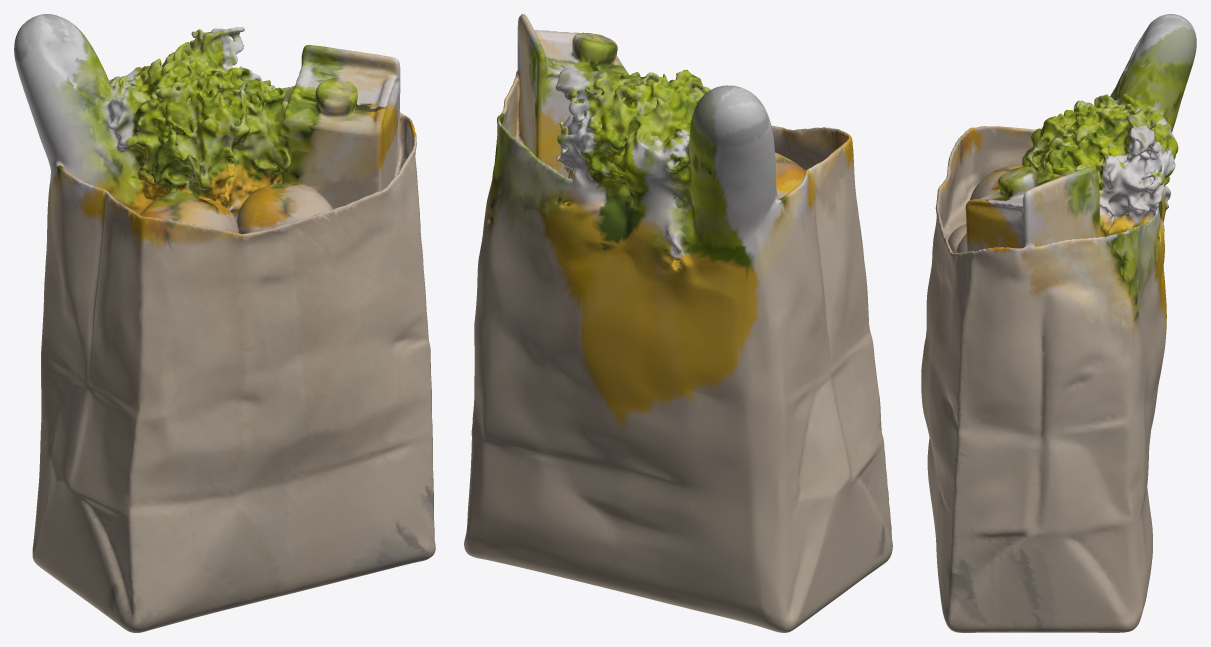
The model's file is grocery_bag.glb.
The picture shows the model from 3 angles, left to right: view 1: azimuth 30°, elevation 25°; view 2: azimuth 150°, elevation 25°; view 3: azimuth 270°, elevation 25°; orthographic projection. The views are drawn at different scales.
Visible parts, largest first — view 1: geometry_0; view 2: geometry_0; view 3: geometry_0.
Part boxes in pixels (bbox=[...]): geometry_0: bbox=[14, 14, 435, 632]; geometry_0: bbox=[464, 14, 892, 632]; geometry_0: bbox=[921, 14, 1196, 632].
Size of the model in its own units: 0.2621 by 0.4 by 0.2023.
